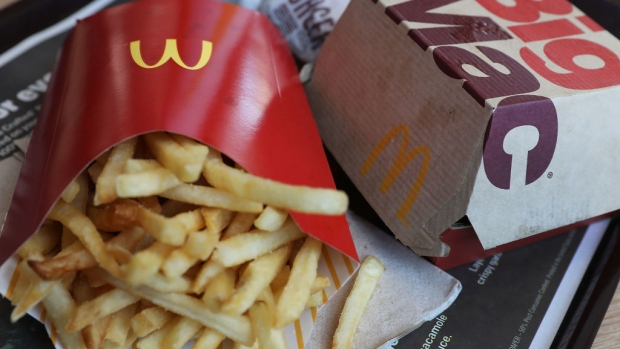mcdonalds: (357, 117, 436, 228), (120, 31, 221, 73)
